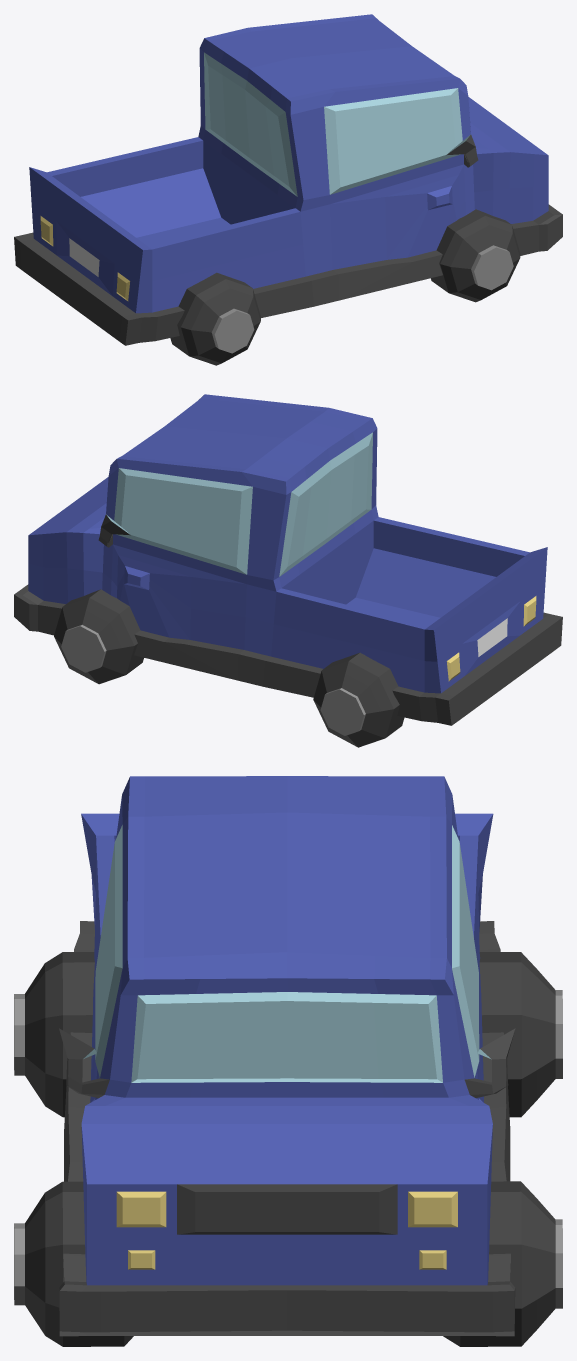
The model's file is model_truck_basic.fbx.
3 renders of one model, top to bottom at view 1: azimuth 30°, elevation 25°; view 2: azimuth 150°, elevation 25°; view 3: azimuth 270°, elevation 25°, orthographic. The views are drawn at different scales.
Parts seen in each view (by area): view 1: SM_TruckBase, SM_Truck_Wheels; view 2: SM_TruckBase, SM_Truck_Wheels; view 3: SM_TruckBase, SM_Truck_Wheels.
Part boxes in pixels (left/top/right/bottom): SM_TruckBase: left=14, top=14, right=562, bottom=345; SM_Truck_Wheels: left=170, top=209, right=520, bottom=365; SM_TruckBase: left=14, top=394, right=562, bottom=725; SM_Truck_Wheels: left=54, top=589, right=404, bottom=747; SM_TruckBase: left=59, top=776, right=515, bottom=1336; SM_Truck_Wheels: left=14, top=952, right=562, bottom=1346.
Bounding box in the file's own units: 17.82 × 9.06 × 10.86.
Materials: 2 (2 with a texture image).
